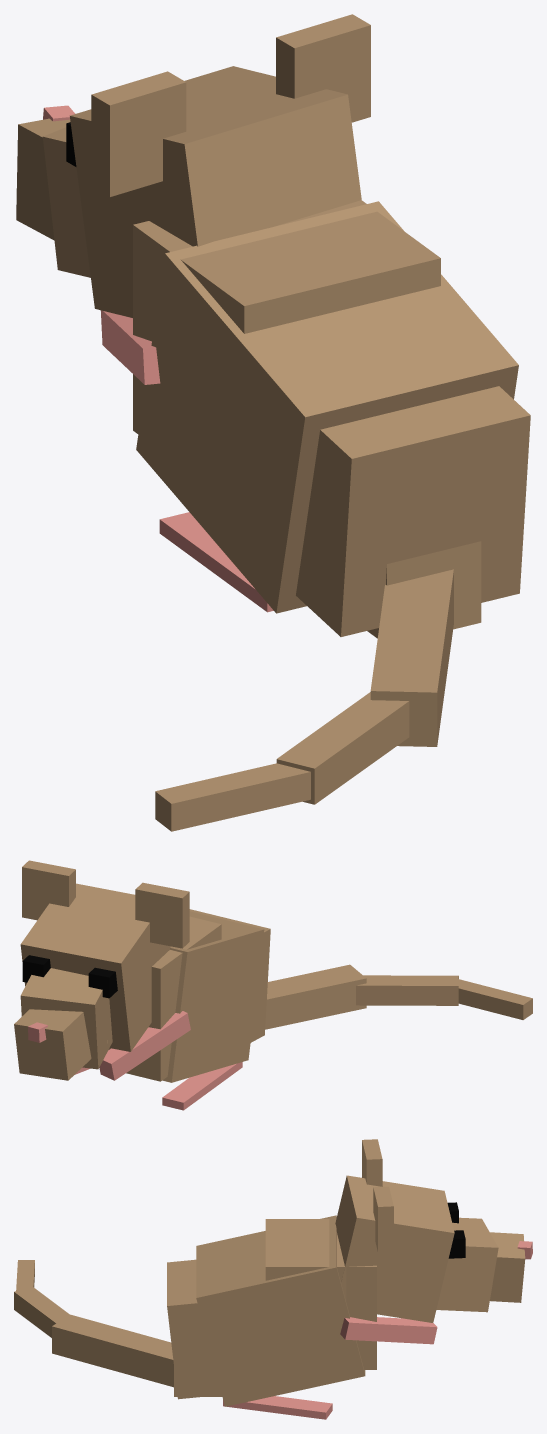
Rendered from rat.fbx.
3 renders of one model, top to bottom at view 1: azimuth 30°, elevation 25°; view 2: azimuth 150°, elevation 25°; view 3: azimuth 270°, elevation 25°, orthographic. The views are drawn at different scales.
Visible parts, largest first — view 1: Cube; view 2: Cube; view 3: Cube.
Boxes of the visible parts, <box> form: Cube: <box>16,14,530,831</box>; Cube: <box>14,860,532,1110</box>; Cube: <box>14,1139,532,1419</box>.
Size of the model in its own units: 77.23 by 55.26 by 122.
